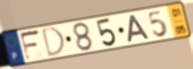5: (95, 17, 117, 48), (148, 9, 170, 39)
8: (71, 21, 94, 52)
A: (127, 13, 152, 44)
D: (40, 26, 67, 59)
F: (18, 28, 42, 63)
